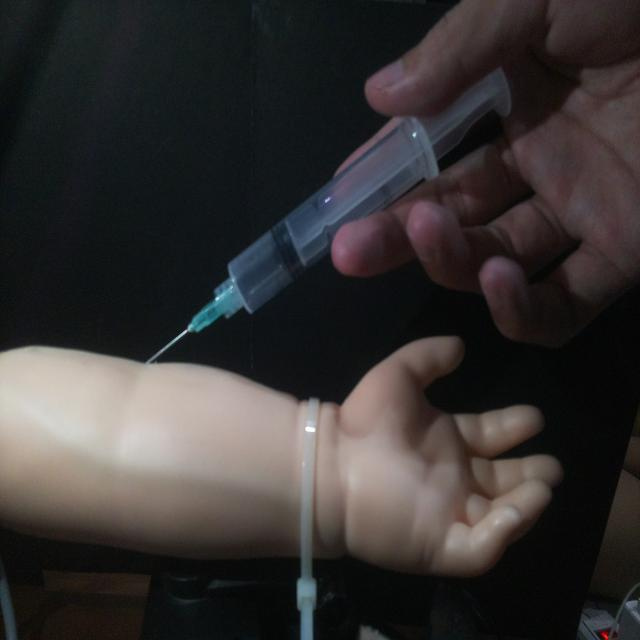26deg: (140, 62, 515, 367)
